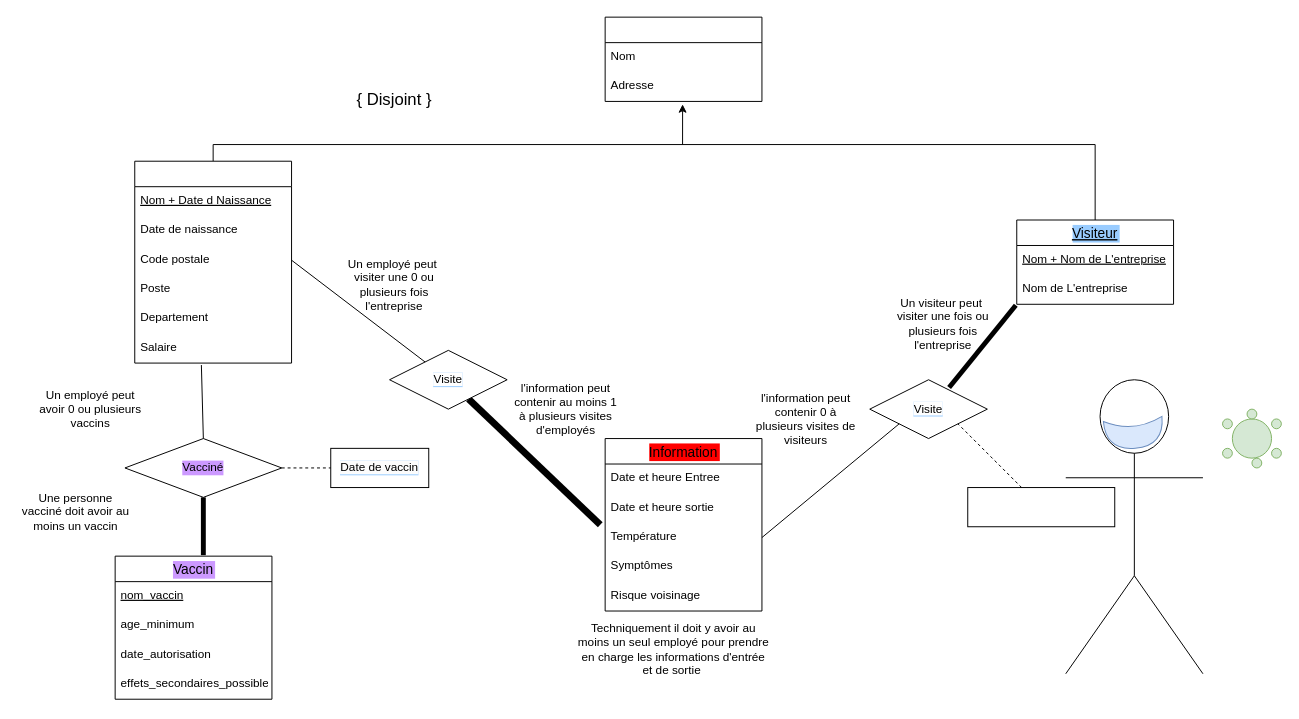
This 1299x719 diagram has some shape labels left out. Here are the shapes that lost their labels. From the top down, the box of each, then its label:
(604, 16, 762, 101): Personne
(134, 160, 292, 363): Employé
(967, 487, 1115, 527): Département(s) visité(s)
